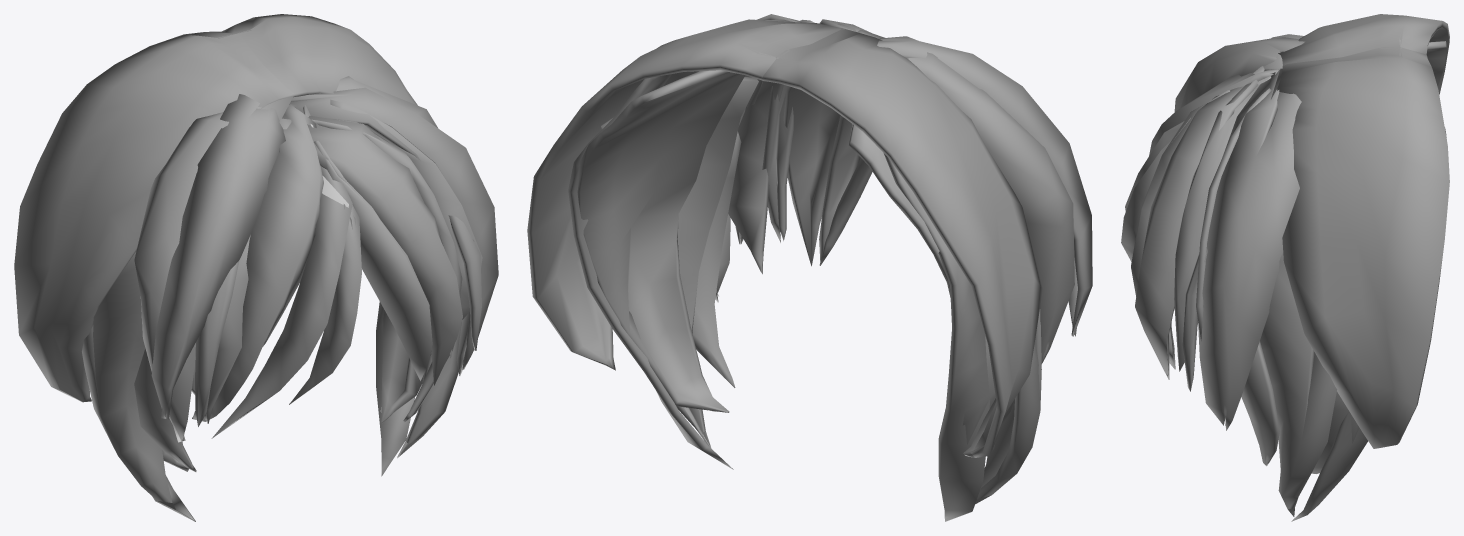
Rendered from HairFront3.fbx.
3 renders of one model, left to right at view 1: azimuth 30°, elevation 25°; view 2: azimuth 150°, elevation 25°; view 3: azimuth 270°, elevation 25°, orthographic. The views are drawn at different scales.
Parts seen in each view (by area): view 1: FrontHair3_mesh; view 2: FrontHair3_mesh; view 3: FrontHair3_mesh.
Boxes of the visible parts, <box> form: FrontHair3_mesh: <box>14,14,498,521</box>; FrontHair3_mesh: <box>527,14,1092,521</box>; FrontHair3_mesh: <box>1121,14,1449,521</box>.
Bounding box in the file's own units: 26.33 × 26.06 × 17.88.
3 materials, 3 textured.
